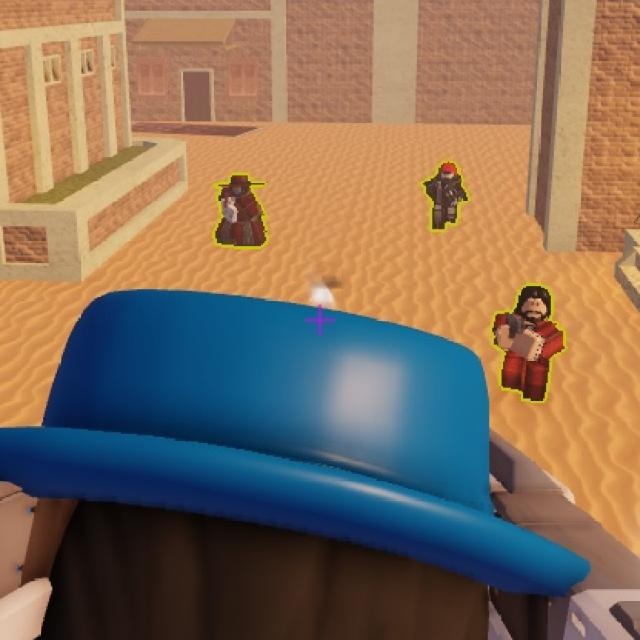player: (491, 283, 562, 401), (208, 172, 263, 253), (426, 160, 470, 232)
